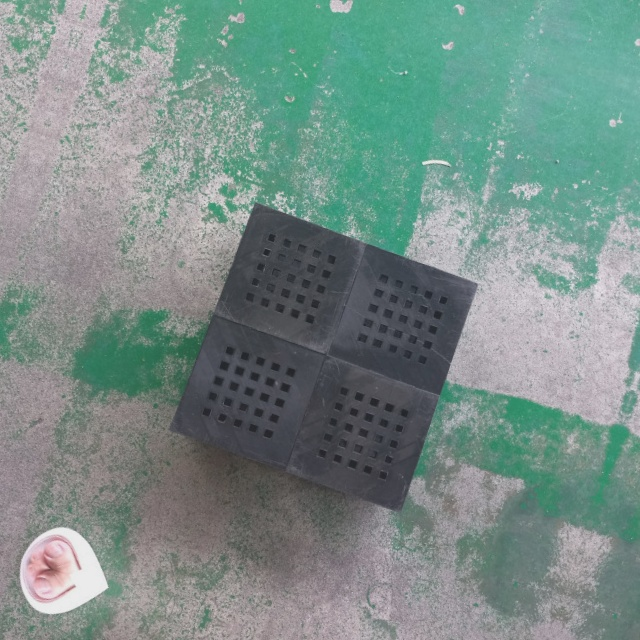pallet: (159, 192, 487, 520)
